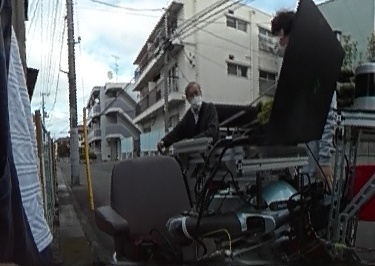person: (154, 80, 219, 152)
